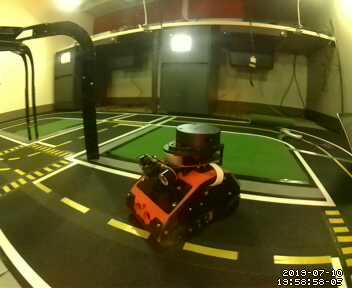pheeno: (124, 113, 245, 249)
